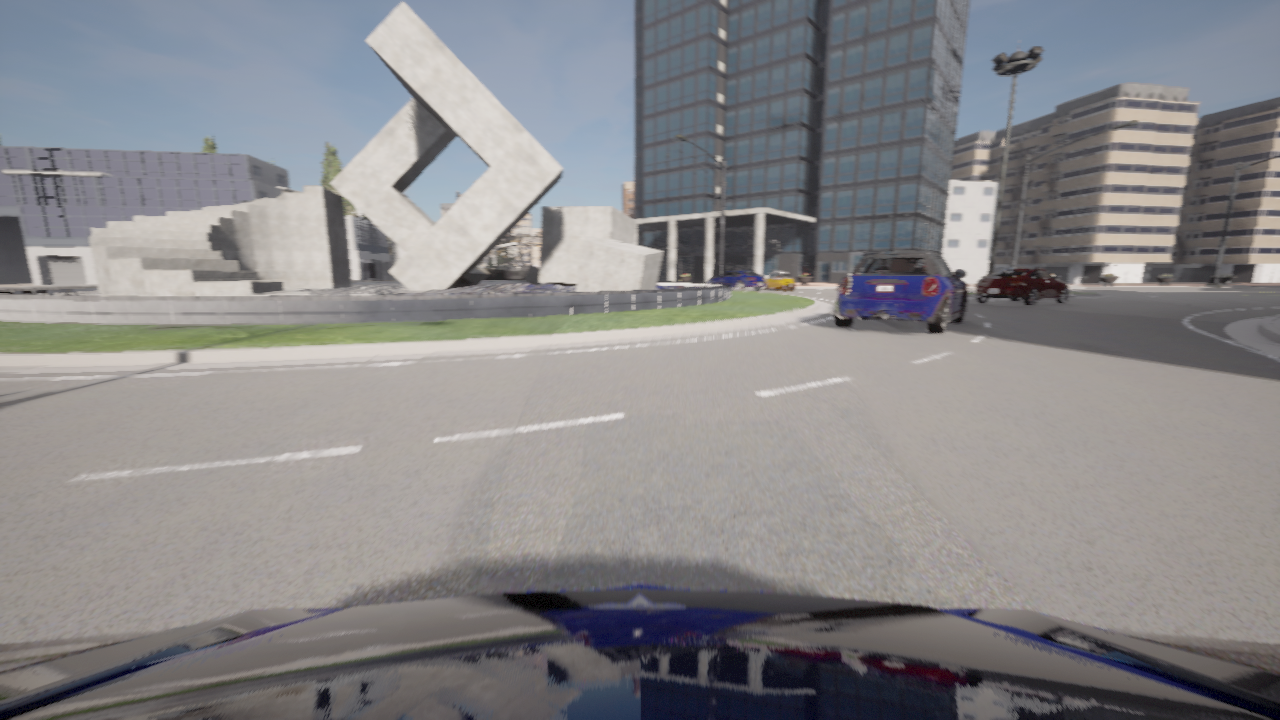cyclist: (0, 584, 1279, 719), (833, 246, 967, 333), (975, 267, 1070, 305), (708, 270, 765, 290), (483, 262, 539, 279), (763, 271, 794, 290)
